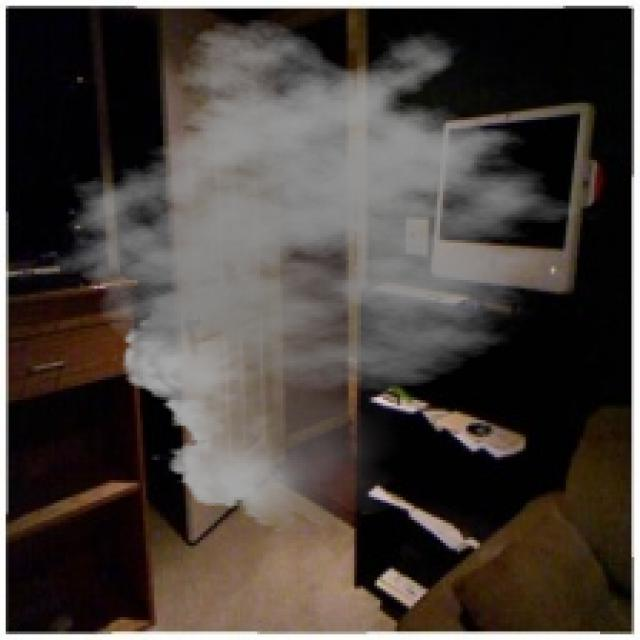smoke: (51, 17, 608, 534)
